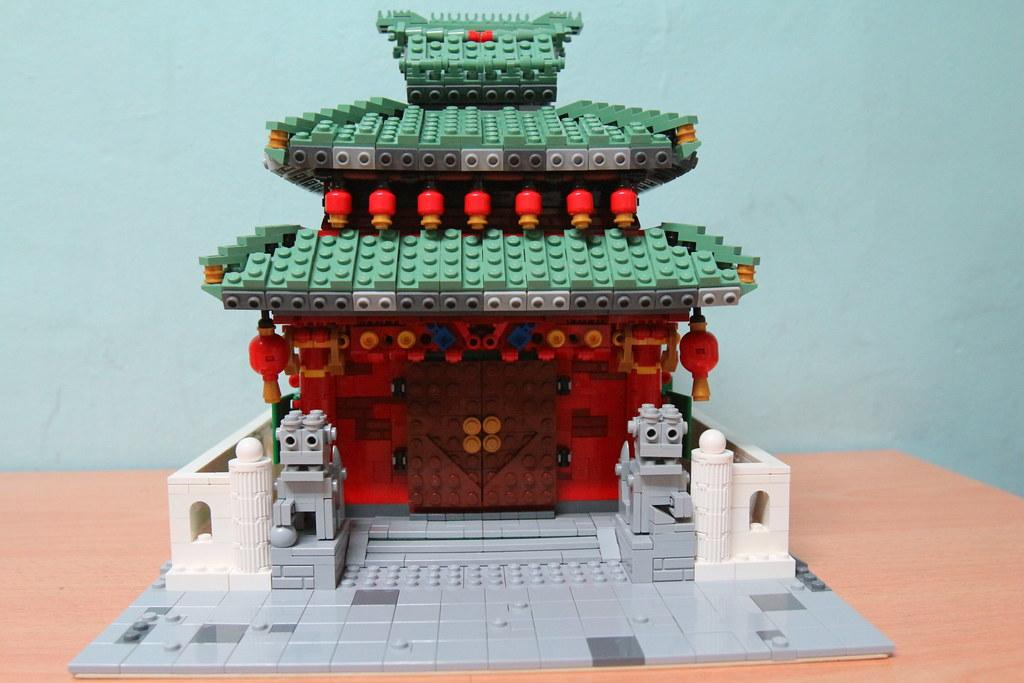temple: (69, 7, 897, 678)
